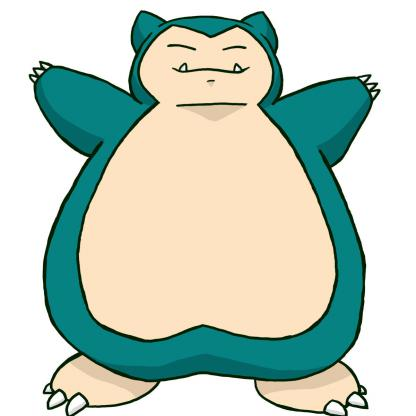Snorlax: (21, 1, 394, 416)
